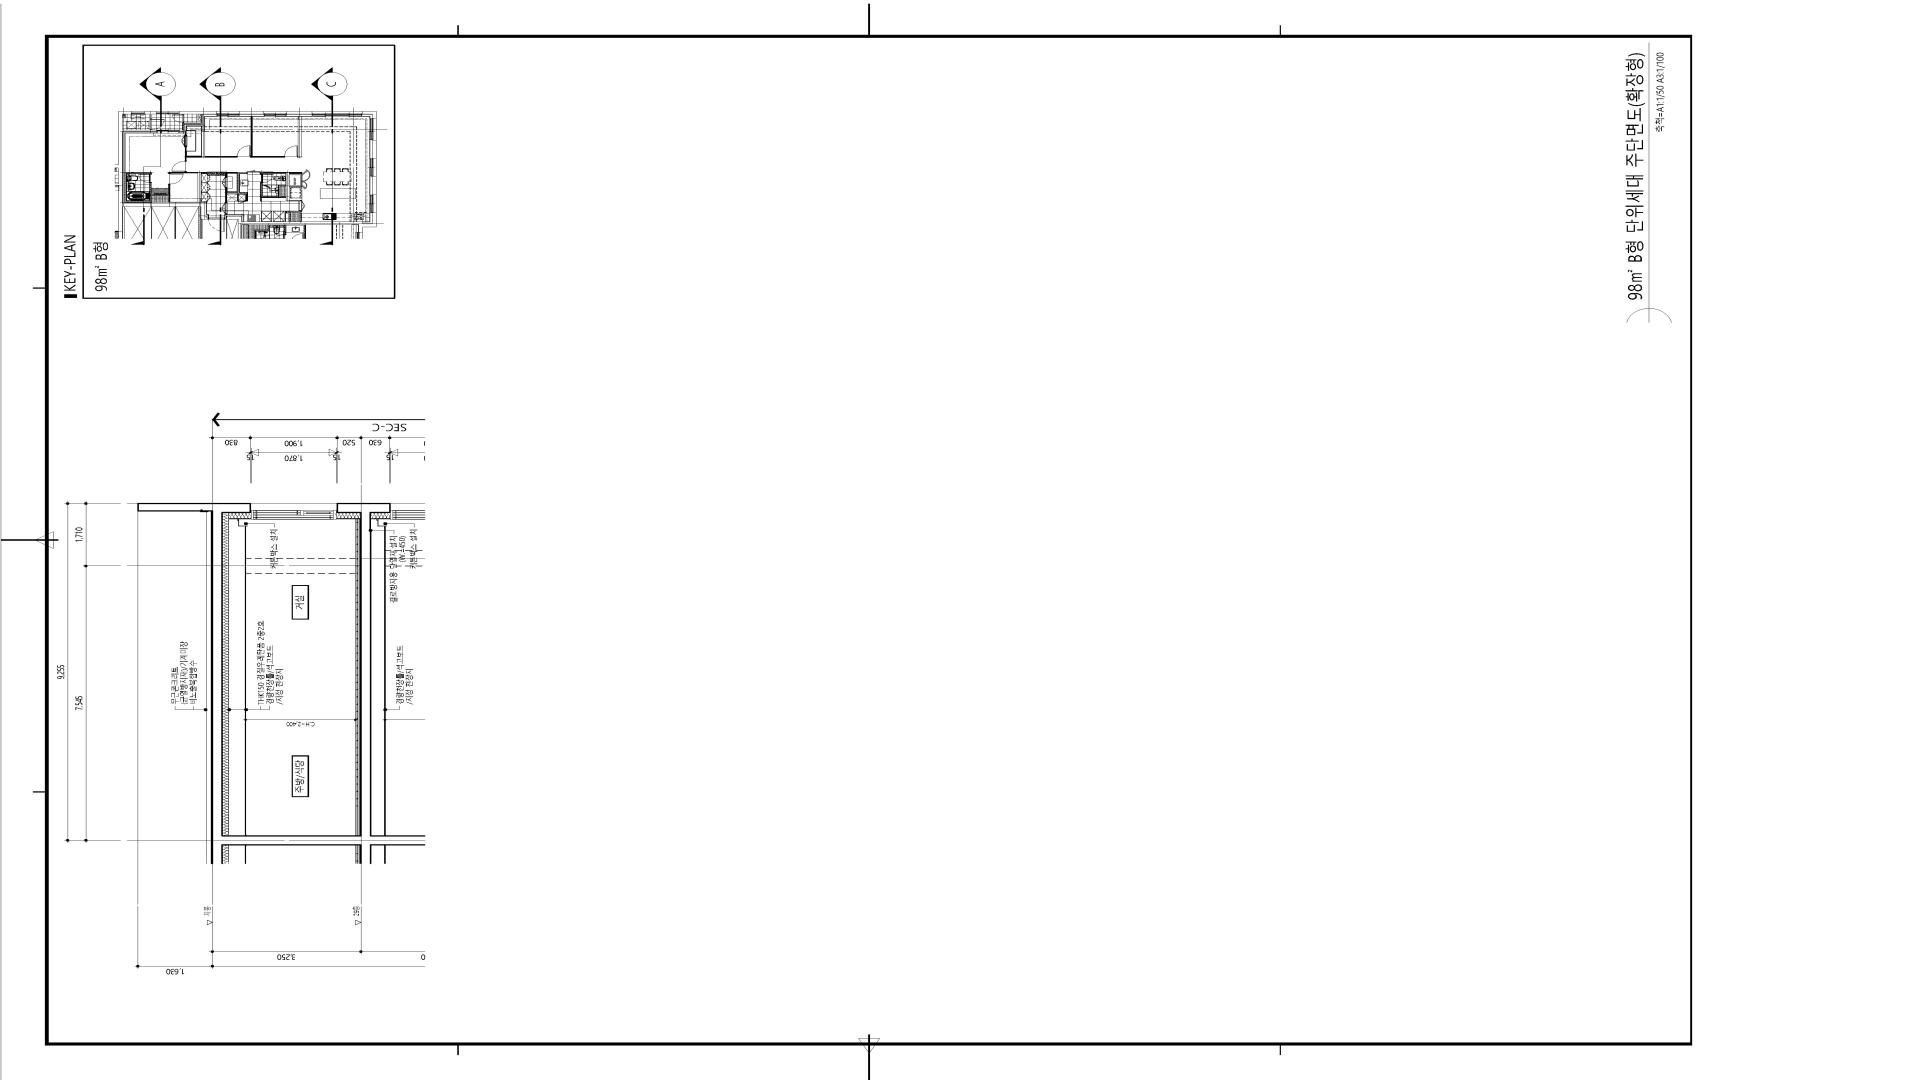wall: (211, 502, 372, 845)
window: (252, 502, 336, 520)
